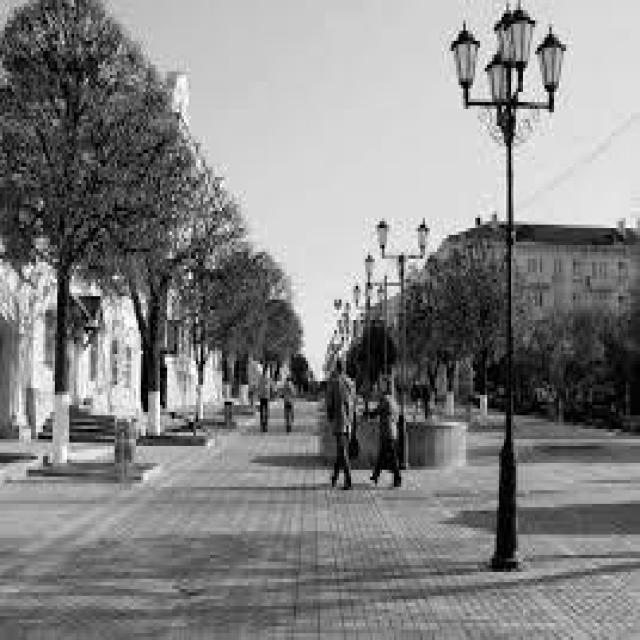pole: (484, 215, 526, 574)
